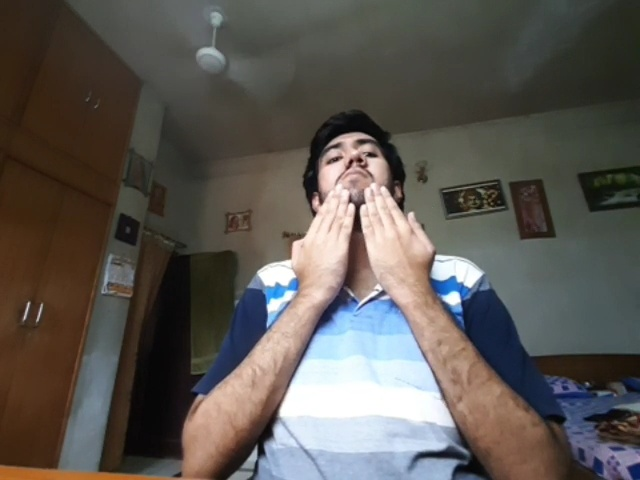ThankYou: (293, 183, 436, 289)
